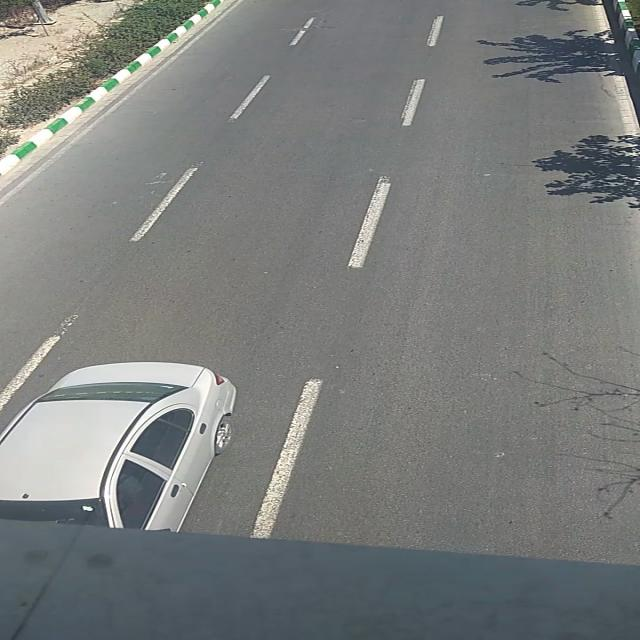car: (3, 362, 237, 530)
